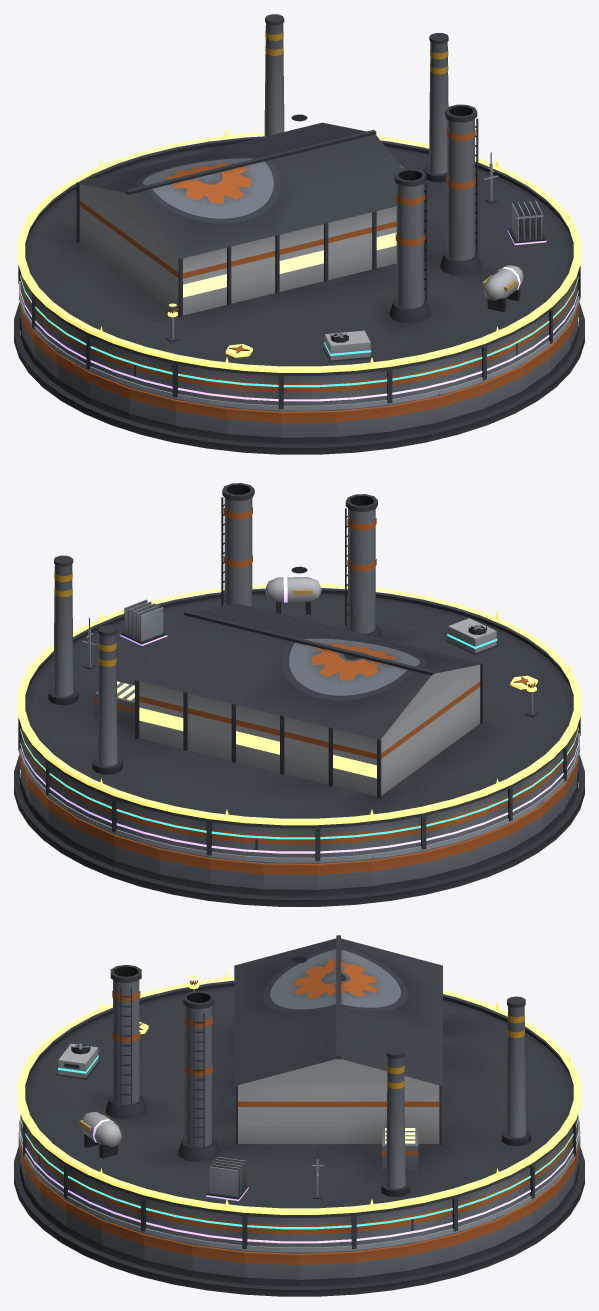
The model's file is refinery_l_far.glb.
3 views of the same model, one above another, from view 1: azimuth 30°, elevation 25°; view 2: azimuth 150°, elevation 25°; view 3: azimuth 270°, elevation 25° (orthographic).
Parts seen in each view (by area): view 1: Roof, Base, L5, L4, L2, L3; view 2: Roof, Base, L5, L4, L2, L3; view 3: Roof, Base, L5, L4, L2, L3.
Boxes of the visible parts, <box> form: Roof: <box>18,14,580,409</box>; Base: <box>14,301,584,454</box>; L5: <box>17,128,581,372</box>; L4: <box>20,200,578,401</box>; L2: <box>19,152,579,410</box>; L3: <box>20,275,578,387</box>; Roof: <box>18,483,580,861</box>; Base: <box>14,753,584,906</box>; L5: <box>17,583,581,825</box>; L4: <box>20,576,578,853</box>; L2: <box>19,618,579,862</box>; L3: <box>20,618,578,839</box>; Roof: <box>20,935,578,1249</box>; Base: <box>14,1131,584,1296</box>; L5: <box>17,970,581,1214</box>; L4: <box>20,1111,578,1243</box>; L2: <box>19,1117,579,1252</box>; L3: <box>20,1043,578,1229</box>.
Bounding box in the file's own units: 18.96 × 8.52 × 18.96.
